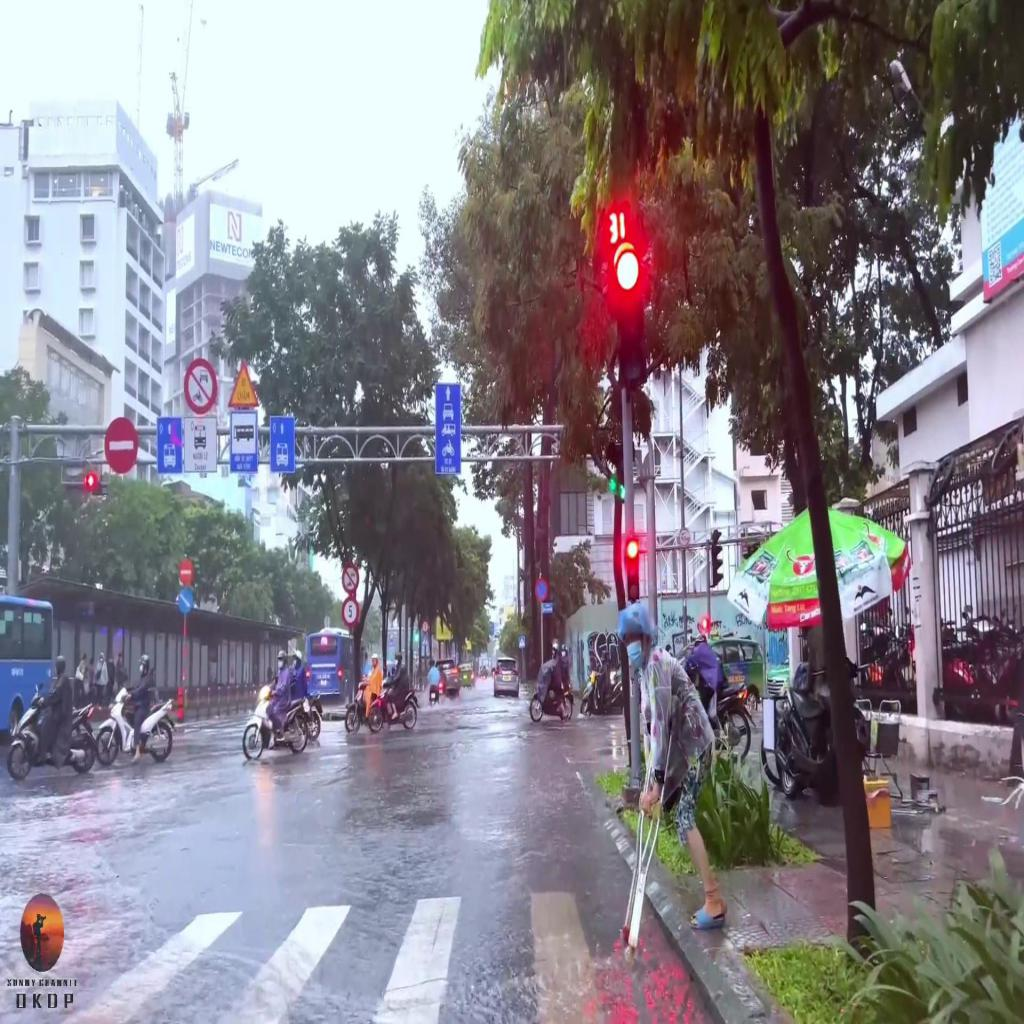cam_do_xe: (534, 578, 547, 602)
cam_xe_2_banh_va_xe_3_banh_co_dong_co: (342, 563, 359, 595)
cam_xe_di_nguoc_chieu: (104, 418, 138, 475), (180, 560, 193, 583)
di_cham: (229, 361, 259, 408)
huong_phai_di_vuot_chuong_ngai_vat_phai: (179, 588, 192, 612)
khac: (437, 382, 462, 473), (186, 418, 219, 474), (184, 358, 216, 414), (230, 414, 258, 473), (271, 417, 296, 471), (158, 422, 182, 476), (341, 597, 359, 629), (421, 620, 429, 633)
object: (519, 636, 525, 648)
